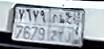6: (24, 8, 31, 40)
7: (16, 8, 24, 38), (31, 9, 38, 40)
9: (39, 10, 45, 41)
J: (66, 15, 72, 43)
T: (58, 13, 65, 44)
Z: (50, 14, 57, 41)
